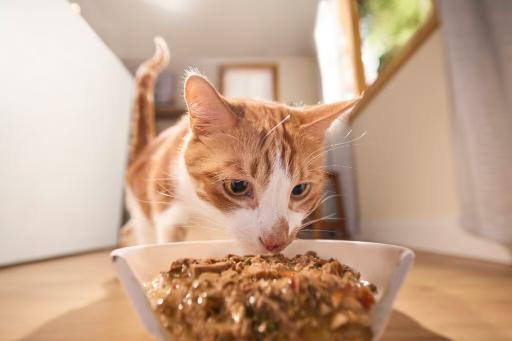cat_eating: (112, 74, 414, 341)
